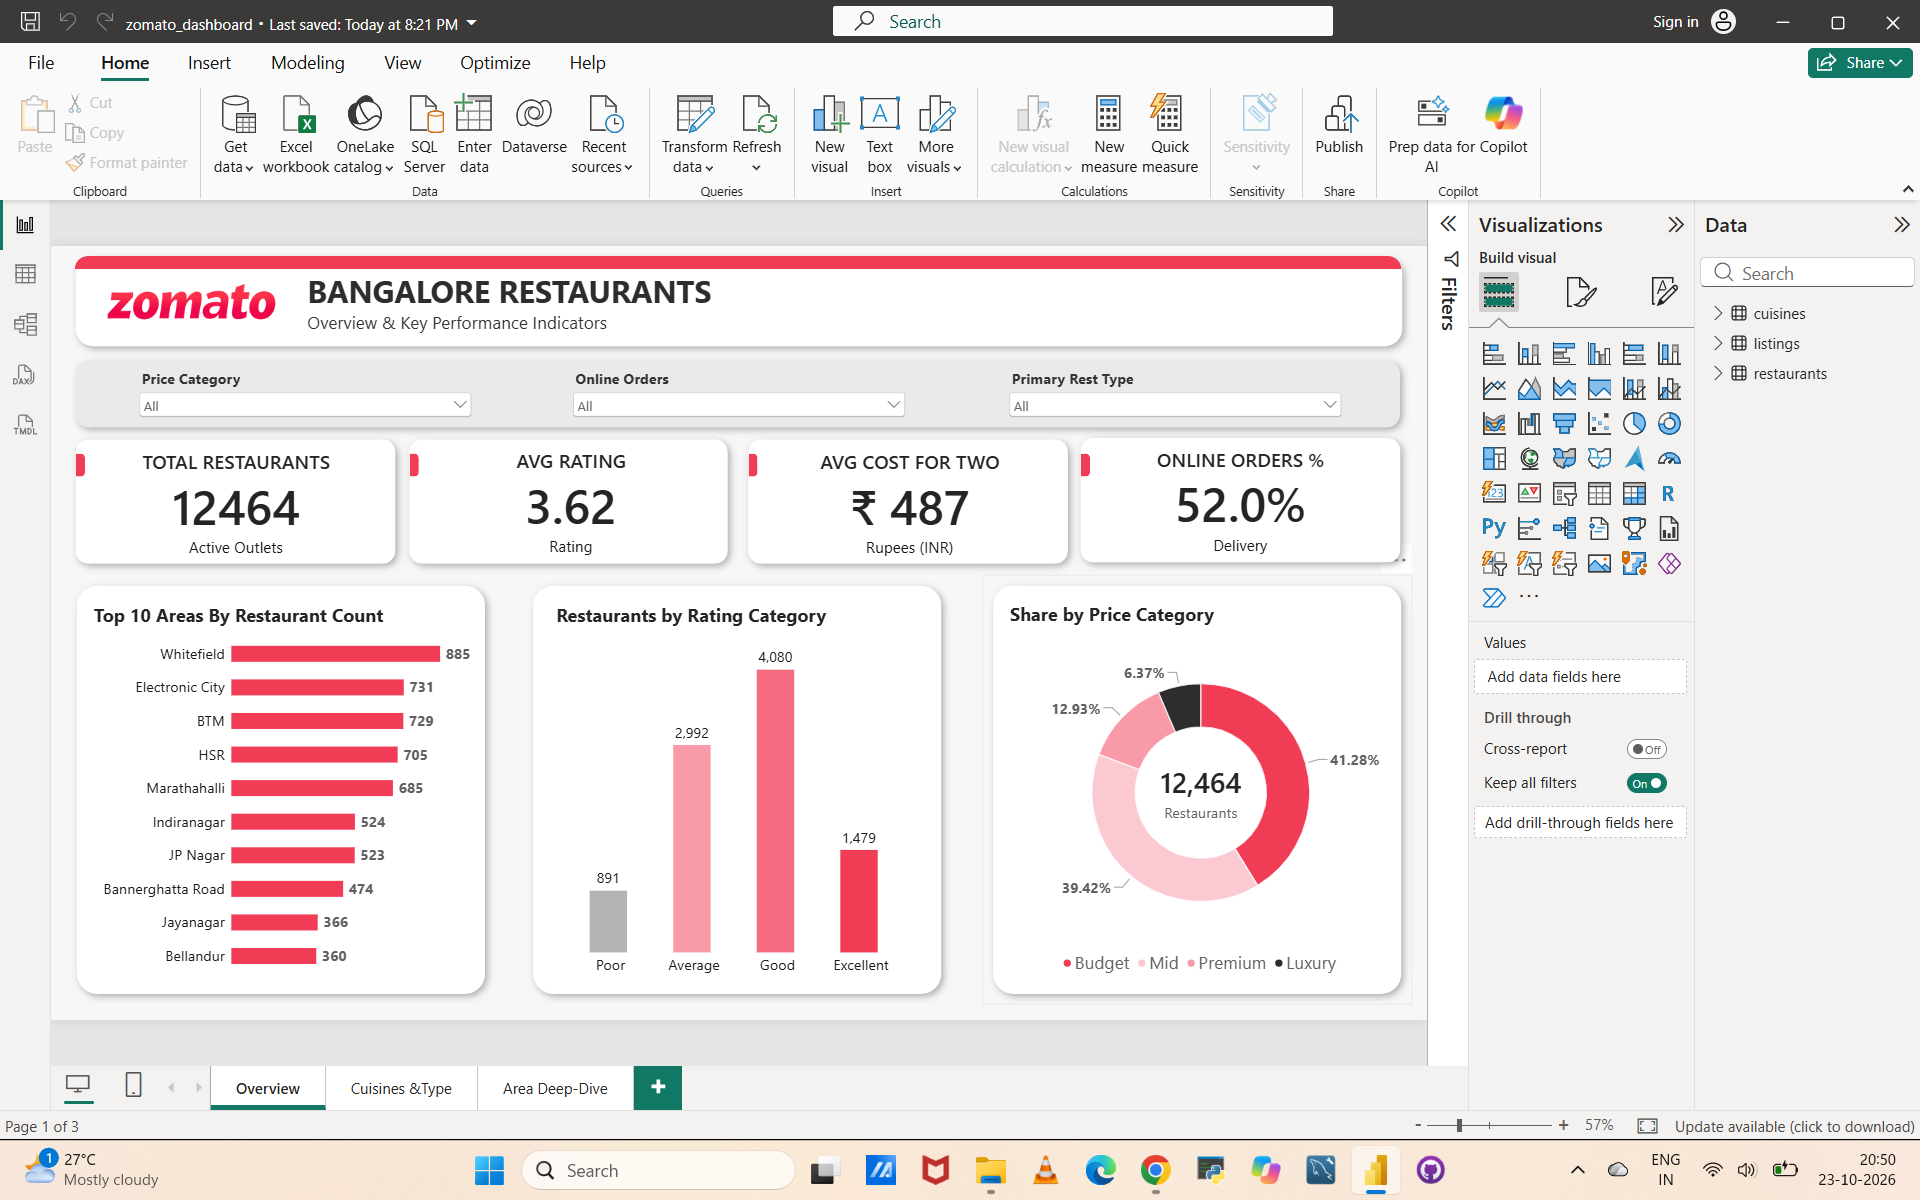

The page's visual inventory and layout, read from the dashboard file:
{"tool":"powerbi","page":{"name":"Overview","canvas":[1920,1080],"ordinal":0},"visuals":[{"type":"shape","box":[1300,458.3,600,600],"z":0},{"type":"shape","box":[658.3,458.3,600,600],"z":1000},{"type":"shape","box":[1421.8,252.8,476.4,203.6],"z":2000},{"type":"shape","box":[20.8,458.3,600,600],"z":3000},{"type":"shape","box":[20,254.5,476.4,203.6],"z":4000},{"type":"shape","box":[485.5,254.5,474.5,203.6],"z":5000},{"type":"shape","box":[958.2,254.5,476.4,203.6],"z":6000},{"type":"shape","title":"Label shape","box":[20,145.5,1878.2,123.6],"z":7000,"group":"g2"},{"type":"cardVisual","title":"TOTAL RESTAURANTS","fields":{"Data":["restaurants.Total Restaurants"]},"box":[32.7,281.8,450.9,176.4],"z":7000},{"type":"shape","title":"Header shape","box":[18.4,0,1881.6,155.1],"z":8000,"group":"g1"},{"type":"cardVisual","title":"AVG RATING","fields":{"Data":["restaurants.Avg Rating"]},"box":[500,281,450.9,176.4],"z":8000},{"type":"textbox","title":"Header text box","box":[357.2,32.7,785.7,89.8],"z":9000,"group":"g1"},{"type":"cardVisual","title":"AVG COST FOR TWO","fields":{"Data":["restaurants.Avg Cost for Two"]},"box":[973.2,281.7,450.9,176.4],"z":9000},{"type":"image","title":"Header image","box":[34.7,10.2,322.4,134.7],"z":10000,"group":"g1"},{"type":"cardVisual","title":"ONLINE ORDERS %","fields":{"Data":["restaurants.Online Order %"]},"box":[1437.5,279.2,445.8,177.1],"z":10000},{"type":"shape","title":"Header line","box":[32.8,14.5,1850.9,18.2],"z":11000,"group":"g1"},{"type":"shape","box":[34.5,289.4,12.7,32.4],"z":11000},{"type":"slicer","title":"Label slicer 1","fields":{"Values":["restaurants.price_category"]},"box":[120,171,472.7,70.9],"z":12000,"group":"g2"},{"type":"shape","box":[500,289.4,12.7,32.4],"z":12000},{"type":"slicer","title":"Label slicer2","fields":{"Values":["restaurants.online_order"]},"box":[725.5,171,472.7,70.9],"z":13000,"group":"g2"},{"type":"shape","box":[973.2,289.4,12.7,32.4],"z":13000},{"type":"slicer","title":"Label slicer 3","fields":{"Values":["restaurants.primary_rest_type"]},"box":[1332.7,171,472.7,70.9],"z":14000,"group":"g2"},{"type":"shape","box":[1436.6,289.4,12.7,32.4],"z":14000},{"type":"clusteredBarChart","title":"Top 10 Areas By Restaurant Count","fields":{"Category":["restaurants.location"],"Y":["restaurants.Total Restaurants"]},"box":[43.8,483.3,558.3,554.2],"z":15000},{"type":"clusteredColumnChart","title":"Restaurants by Rating Category","fields":{"Category":["restaurants.rating_category"],"Y":["restaurants.Total Restaurants"]},"box":[689.6,483.3,533.3,554.2],"z":16000},{"type":"donutChart","title":"  Share by Price Category","fields":{"Category":["restaurants.price_category"],"Y":["restaurants.Total Restaurants"]},"box":[1322.9,481.2,564.6,554.2],"z":17000},{"type":"group","id":"g1","title":"Group 1","box":[18.4,0,1881.6,155.1],"z":18000},{"type":"group","id":"g2","title":"Group 2","box":[20,145.5,1878.2,123.6],"z":19000}]}

Visuals, with their boxes on the page's 1920x1080 design canvas (x1, y1, x2, y2). These are canvas units, not pixel positions in the 1920x1200 screenshot, which may show the page scaled, cropped or inside an application window:
shape: BBox(1300, 458, 1900, 1058)
shape: BBox(658, 458, 1258, 1058)
shape: BBox(1422, 253, 1898, 456)
shape: BBox(21, 458, 621, 1058)
shape: BBox(20, 254, 496, 458)
shape: BBox(486, 254, 960, 458)
shape: BBox(958, 254, 1435, 458)
"Label shape" shape: BBox(20, 146, 1898, 269)
"TOTAL RESTAURANTS" cardVisual: BBox(33, 282, 484, 458)
"Header shape" shape: BBox(18, 0, 1900, 155)
"AVG RATING" cardVisual: BBox(500, 281, 951, 457)
"Header text box" textbox: BBox(357, 33, 1143, 122)
"AVG COST FOR TWO" cardVisual: BBox(973, 282, 1424, 458)
"Header image" image: BBox(35, 10, 357, 145)
"ONLINE ORDERS %" cardVisual: BBox(1438, 279, 1883, 456)
"Header line" shape: BBox(33, 14, 1884, 33)
shape: BBox(34, 289, 47, 322)
"Label slicer 1" slicer: BBox(120, 171, 593, 242)
shape: BBox(500, 289, 513, 322)
"Label slicer2" slicer: BBox(726, 171, 1198, 242)
shape: BBox(973, 289, 986, 322)
"Label slicer 3" slicer: BBox(1333, 171, 1805, 242)
shape: BBox(1437, 289, 1449, 322)
"Top 10 Areas By Restaurant Count" clusteredBarChart: BBox(44, 483, 602, 1038)
"Restaurants by Rating Category" clusteredColumnChart: BBox(690, 483, 1223, 1038)
"  Share by Price Category" donutChart: BBox(1323, 481, 1888, 1035)
"Group 1" group: BBox(18, 0, 1900, 155)
"Group 2" group: BBox(20, 146, 1898, 269)
